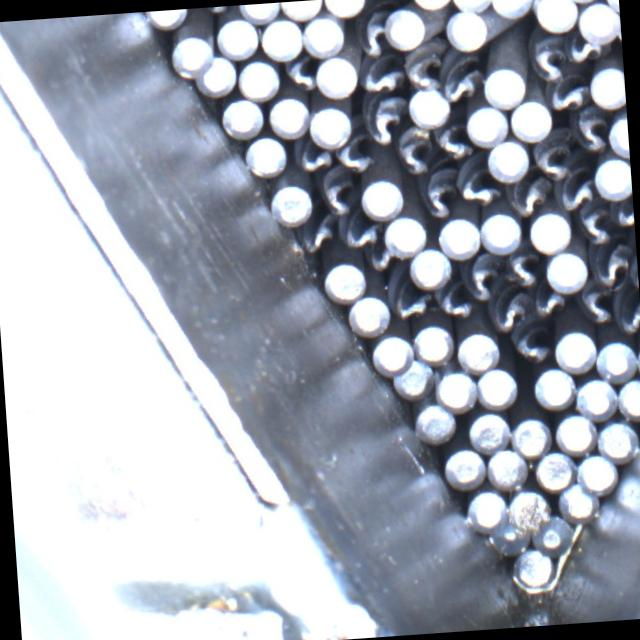tool: (264, 182, 316, 230), (508, 545, 560, 593), (166, 33, 215, 79), (508, 485, 556, 531), (528, 516, 580, 558), (379, 5, 426, 51), (360, 175, 406, 222), (542, 248, 588, 294), (213, 15, 260, 60), (320, 259, 365, 306), (532, 364, 576, 412), (381, 210, 426, 256), (442, 5, 488, 50), (551, 328, 596, 373), (432, 364, 476, 410), (300, 12, 344, 58), (464, 408, 510, 452), (258, 15, 302, 60), (219, 94, 264, 138), (572, 372, 616, 417), (526, 208, 571, 252), (462, 488, 507, 532), (576, 0, 619, 46), (194, 53, 237, 99), (590, 155, 632, 202), (236, 56, 280, 100), (436, 215, 481, 258), (482, 517, 530, 557), (508, 98, 551, 142), (369, 329, 413, 372), (264, 94, 307, 138), (243, 134, 287, 177), (480, 64, 524, 107), (483, 445, 527, 488), (307, 102, 350, 146), (346, 293, 390, 336), (534, 446, 576, 491), (412, 401, 457, 443), (441, 445, 486, 487), (314, 53, 356, 98), (479, 210, 522, 253), (408, 245, 451, 288), (464, 102, 508, 144), (486, 137, 528, 181), (412, 320, 454, 364), (454, 328, 498, 370), (474, 364, 516, 408), (509, 414, 551, 457), (553, 410, 595, 453), (574, 448, 616, 491), (407, 86, 450, 128), (594, 416, 636, 459), (587, 64, 626, 108), (390, 360, 432, 400), (557, 480, 597, 520), (595, 338, 635, 378), (531, 0, 578, 32), (614, 376, 640, 418), (145, 8, 189, 32), (606, 112, 629, 156), (238, 2, 280, 22), (280, 0, 322, 20), (322, 0, 366, 17), (488, 0, 531, 17), (451, 0, 492, 13), (409, 0, 452, 10)
tool_b: (544, 70, 596, 118), (455, 157, 500, 212), (358, 94, 408, 142), (567, 107, 612, 157), (314, 171, 362, 216), (502, 175, 550, 220), (532, 138, 580, 182), (419, 167, 460, 218), (461, 252, 500, 304), (440, 60, 484, 106), (356, 52, 404, 94), (528, 34, 568, 84), (550, 174, 600, 212), (396, 124, 433, 175), (434, 119, 476, 162), (402, 48, 442, 92), (386, 286, 430, 326), (502, 246, 542, 290), (488, 292, 530, 332), (574, 284, 613, 327), (332, 136, 376, 174), (278, 59, 318, 99), (512, 326, 552, 366), (339, 213, 381, 250), (561, 34, 606, 68), (592, 250, 630, 290), (295, 218, 336, 254), (574, 206, 610, 247), (356, 10, 388, 56), (434, 284, 472, 322), (528, 285, 566, 322), (294, 140, 332, 173), (614, 289, 640, 337), (362, 248, 397, 276), (612, 197, 634, 231)
